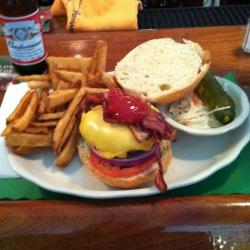burger: (94, 39, 203, 179)
fries: (16, 74, 79, 152)
